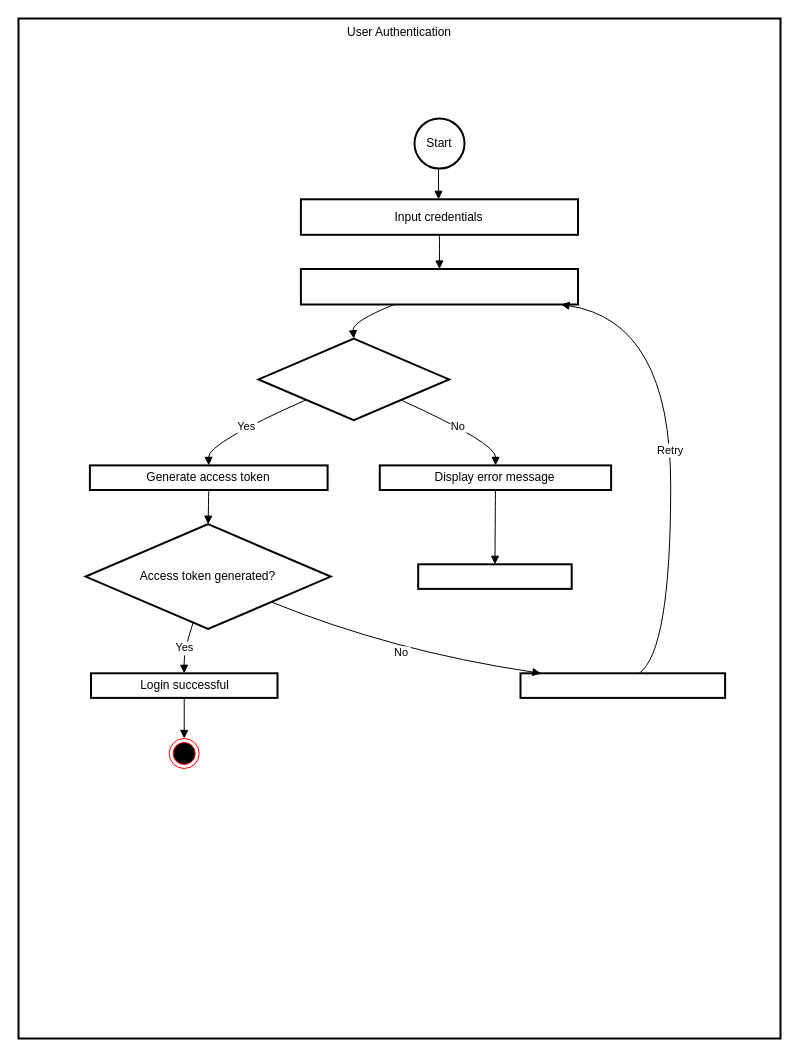
Some shapes in this 798 by 1056 pixel diagram are drawn without their labels. Each missing label, with the centre of its shape:
"Authenticate with credentials" belongs at (x=438, y=286).
"Credentials valid?" belongs at (x=353, y=379).
"End process" belongs at (x=494, y=576).
"Login unsuccessful" belongs at (x=622, y=685).
